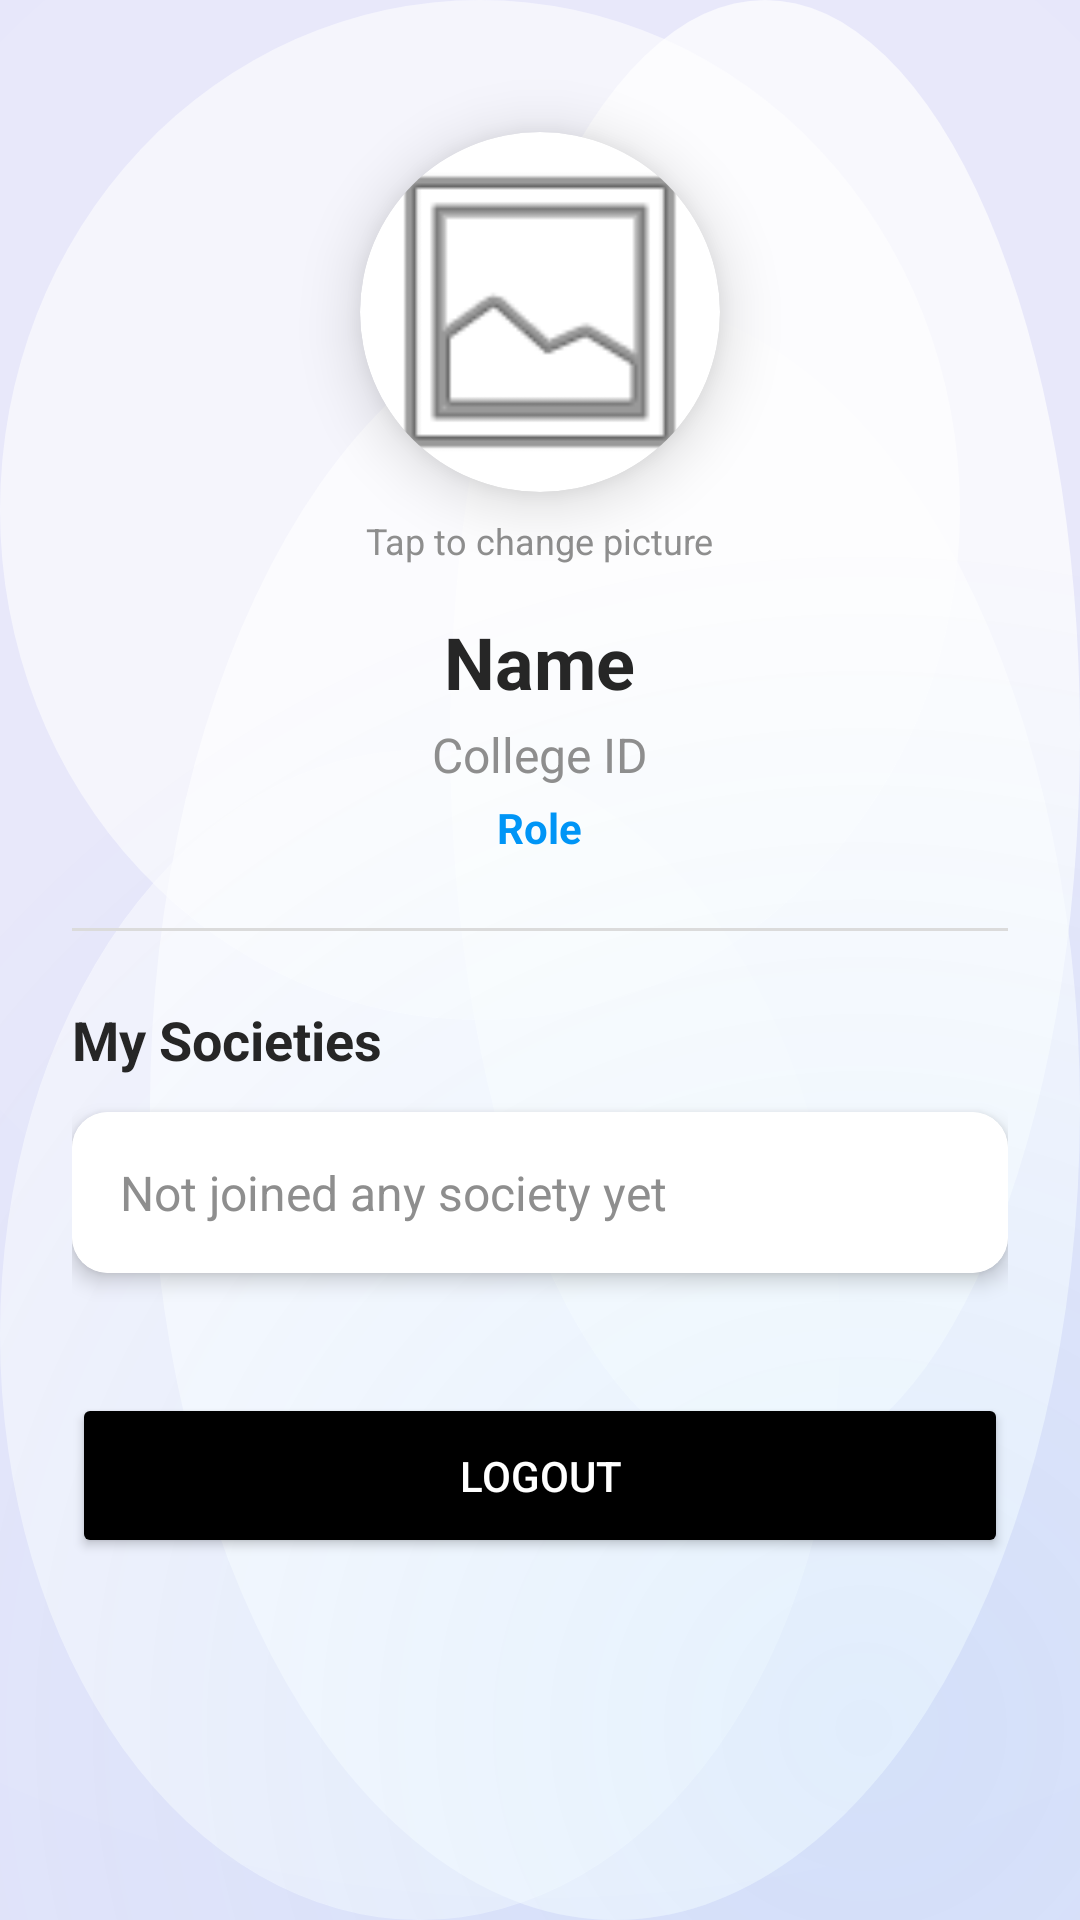

Icons on this 1080w x 1920h Android screen, each with its box as {"left": x1, "top": y1, "right": x2, "bottom": y2}:
gallery: {"left": 431, "top": 203, "right": 720, "bottom": 421}
